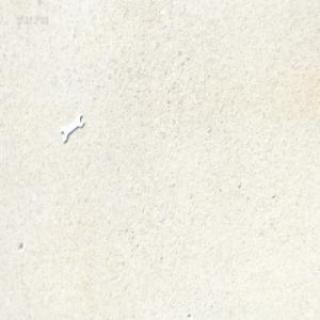Wrenchtrack_idkeyframe: (59, 112, 84, 145)
